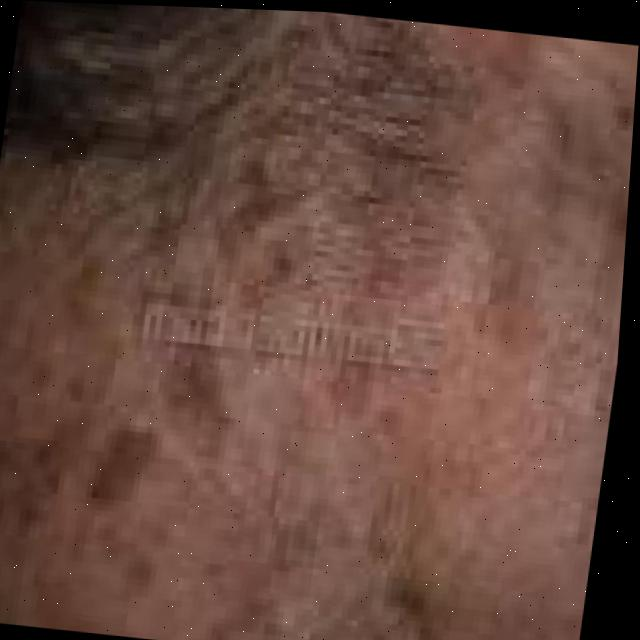Melasma: (9, 28, 514, 575)
